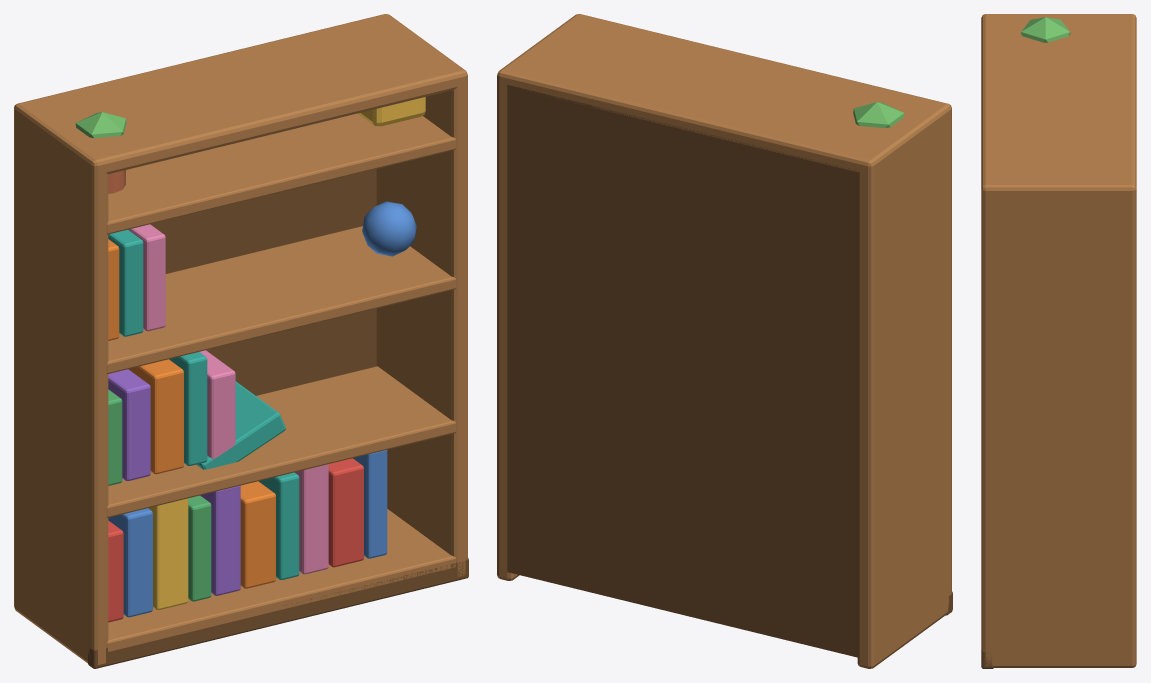
File: estante.glb
The picture shows the model from 3 angles, left to right: view 1: azimuth 30°, elevation 25°; view 2: azimuth 150°, elevation 25°; view 3: azimuth 270°, elevation 25°; orthographic projection. The views are drawn at different scales.
Visible parts, largest first — view 1: estante; view 2: estante; view 3: estante.
Part boxes in pixels (bbox=[...]): estante: bbox=[14, 14, 468, 668]; estante: bbox=[497, 14, 952, 668]; estante: bbox=[981, 14, 1136, 668].
Bounding box in the file's own units: 1.86 × 2.47 × 0.7.
